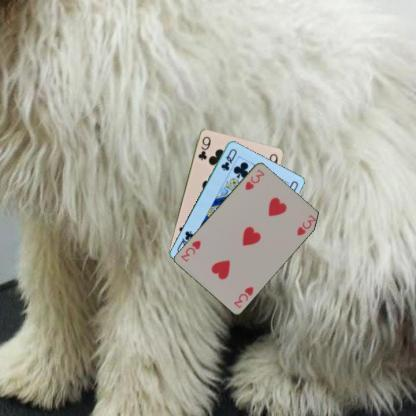3h: (243, 166, 266, 192), (232, 284, 254, 310)
9c: (196, 134, 212, 162)
Qc: (219, 146, 238, 172)
